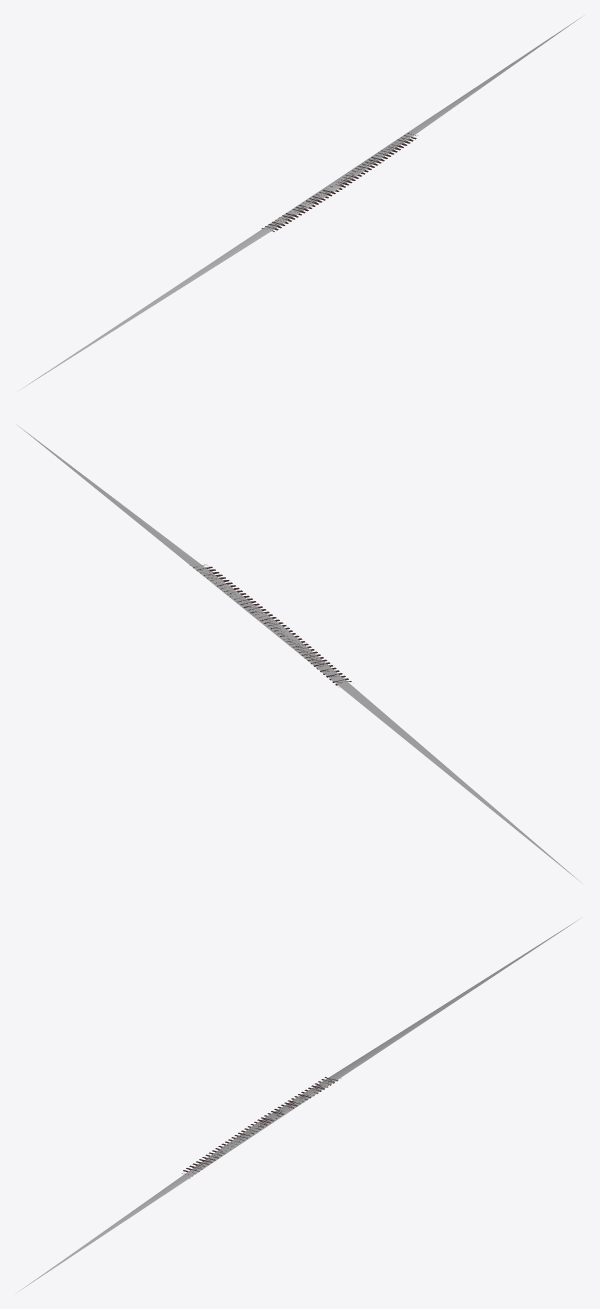
3 views of the same model, one above another, from view 1: azimuth 90°, elevation 25°; view 2: azimuth 150°, elevation 25°; view 3: azimuth 270°, elevation 25° (orthographic). The views are drawn at different scales.
Size of the model in its own units: 127 by 0.064 by 80.82.
